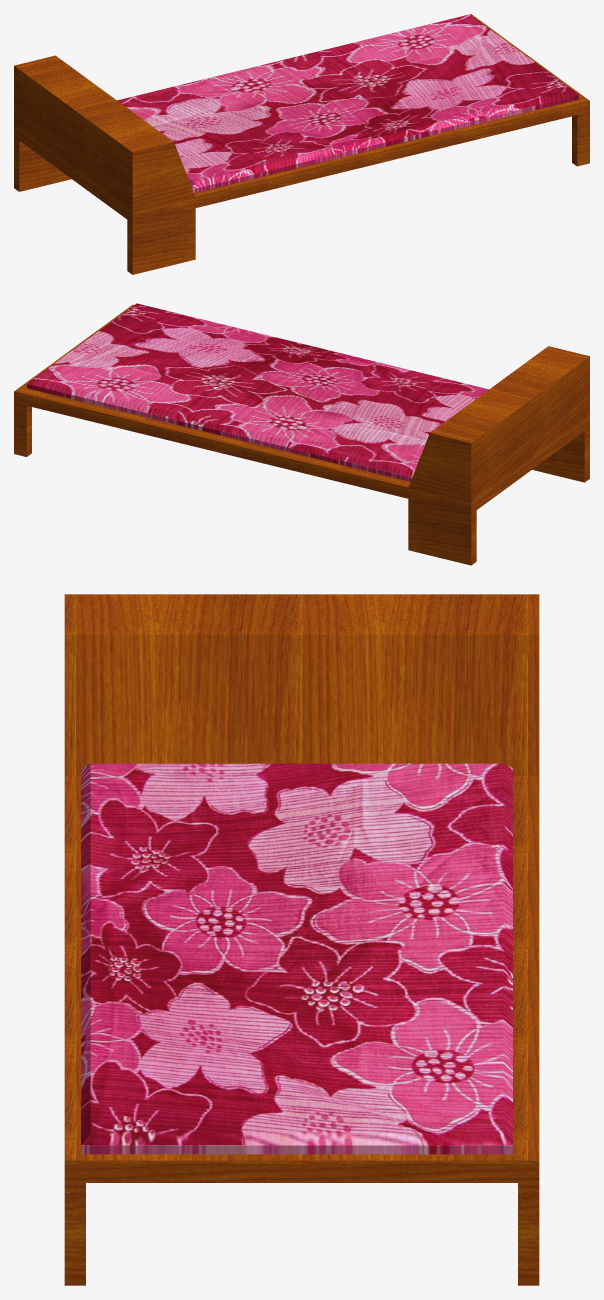
The model's file is bed_01.fbx.
The picture shows the model from 3 angles, top to bottom: view 1: azimuth 30°, elevation 25°; view 2: azimuth 150°, elevation 25°; view 3: azimuth 270°, elevation 25°; orthographic projection. The views are drawn at different scales.
Parts seen in each view (by area): view 1: mattress, bed_01; view 2: mattress, bed_01; view 3: mattress, bed_01.
Boxes of the visible parts, x1=… form: mattress: x1=117, y1=14, x2=579, y2=193; bed_01: x1=14, y1=14, x2=589, y2=274; mattress: x1=27, y1=303, x2=488, y2=481; bed_01: x1=14, y1=304, x2=589, y2=565; mattress: x1=81, y1=763, x2=512, y2=1154; bed_01: x1=64, y1=594, x2=539, y2=1285.
Size of the model in its own units: 11.68 by 2.99 by 5.25.
2 materials, 2 textured.
